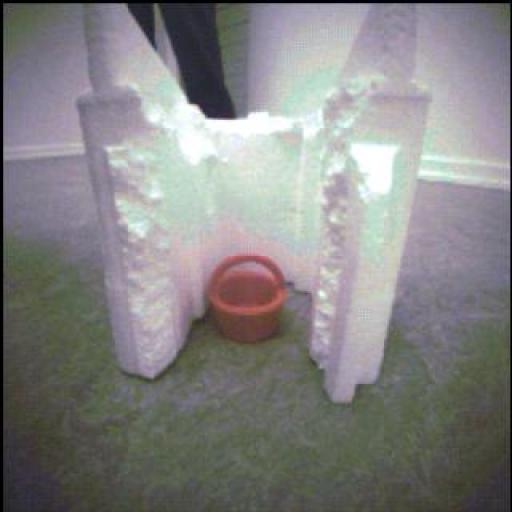Bucket: (209, 256, 287, 344)
